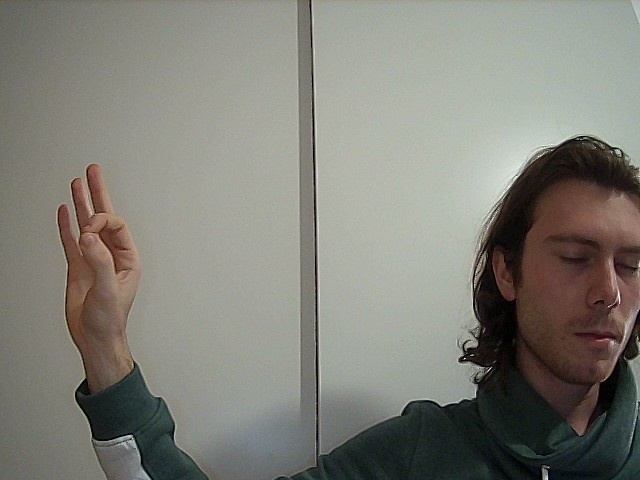f: (38, 152, 161, 336)
